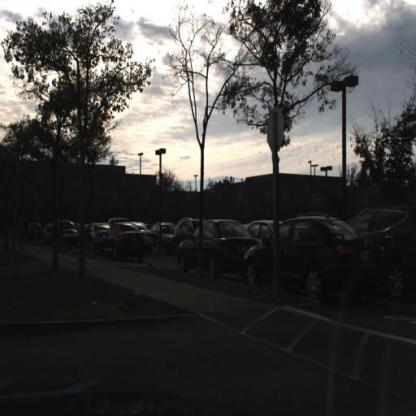car: (243, 213, 387, 312), (357, 198, 415, 306), (175, 218, 254, 278), (100, 221, 147, 265), (243, 212, 277, 248), (173, 217, 198, 241), (153, 217, 175, 243)
